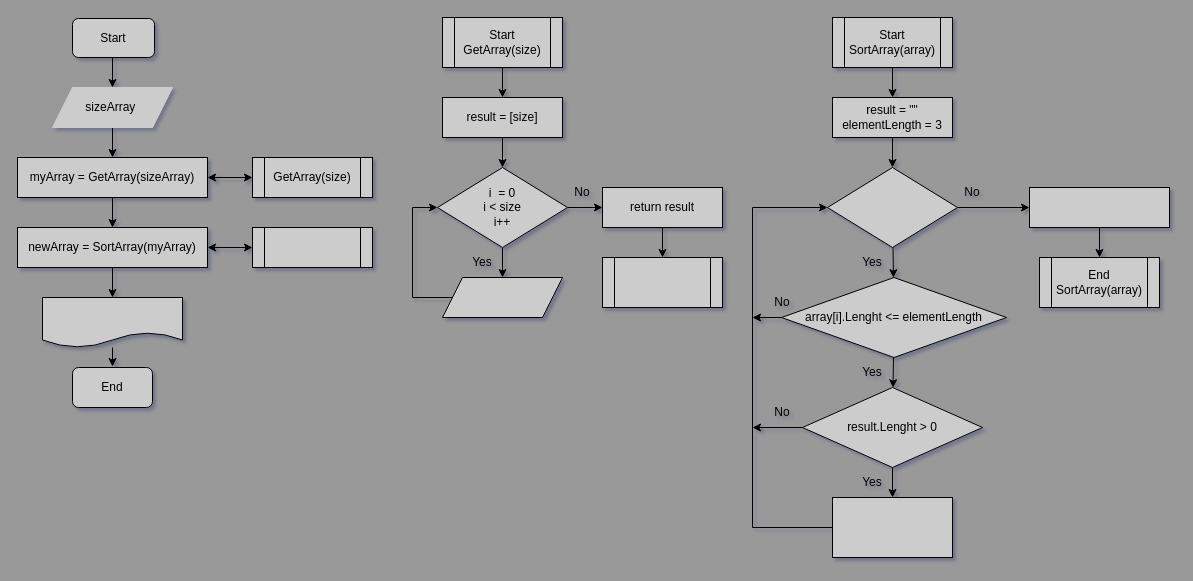
The diagram is 1193 pixels wide and 581 high, and some of its shapes have lost their labels. The centre of each missing label's shape, as x and y in pixels:
End GetArray(size): (x=662, y=282)
i = 0 i < array.Lenght i++: (x=892, y=207)
myArray -> newArray: (x=112, y=322)
result += ", " result += array[i]: (x=892, y=527)
result[i]: (x=502, y=297)
return result split by ", ": (x=1099, y=207)
SortArray(array): (x=312, y=247)
